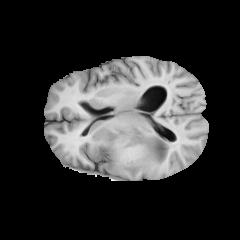glioma: (84, 128, 169, 176)
